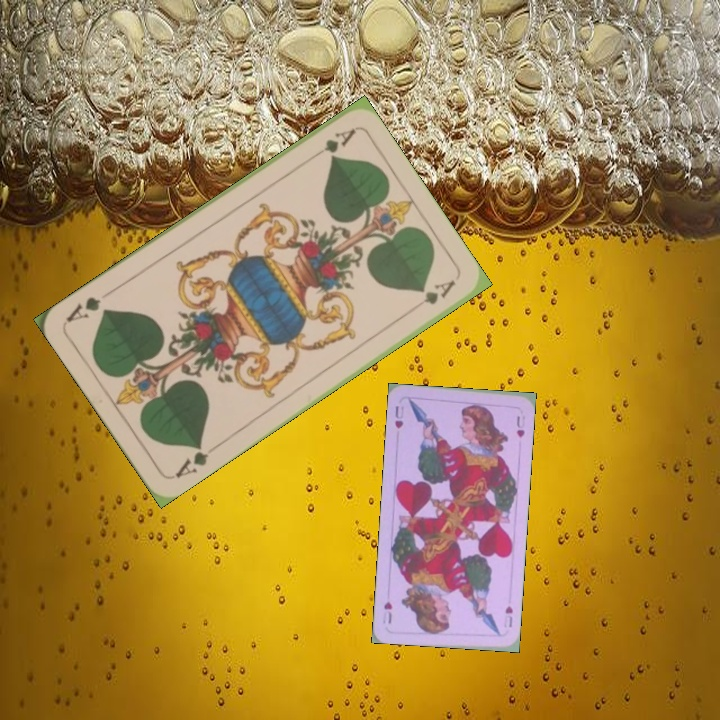GA: (305, 125, 358, 164), (171, 439, 211, 481)
HU: (391, 402, 406, 431), (500, 602, 515, 630)
